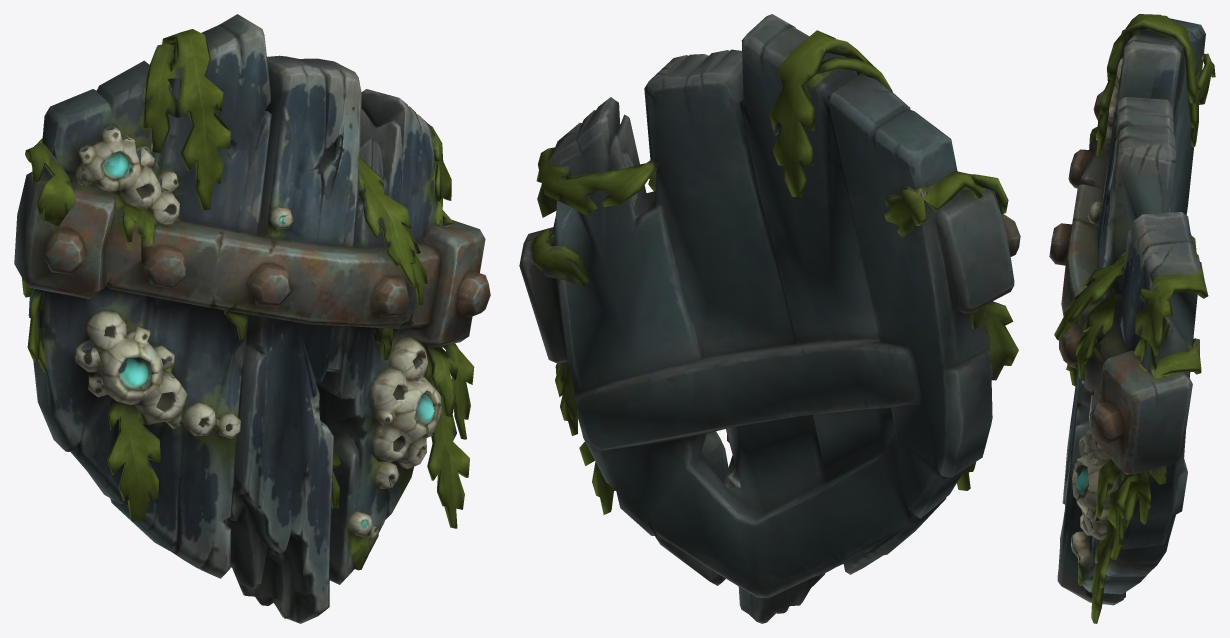
The model's file is tll_ch4_plankshield.glb.
3 renders of one model, left to right at view 1: azimuth 30°, elevation 25°; view 2: azimuth 150°, elevation 25°; view 3: azimuth 270°, elevation 25°, orthographic. The views are drawn at different scales.
Visible parts, largest first — view 1: tripo_node_4022e1ef-5d4e-49a6-8dab-584794d84cff; view 2: tripo_node_4022e1ef-5d4e-49a6-8dab-584794d84cff; view 3: tripo_node_4022e1ef-5d4e-49a6-8dab-584794d84cff.
Boxes of the visible parts, bbox=[...] form: tripo_node_4022e1ef-5d4e-49a6-8dab-584794d84cff: bbox=[14, 14, 490, 623]; tripo_node_4022e1ef-5d4e-49a6-8dab-584794d84cff: bbox=[519, 14, 1020, 623]; tripo_node_4022e1ef-5d4e-49a6-8dab-584794d84cff: bbox=[1049, 14, 1215, 623].
Size of the model in its own units: 0.8018 by 0.9778 by 0.266.
Materials: 1 (1 with a texture image).
